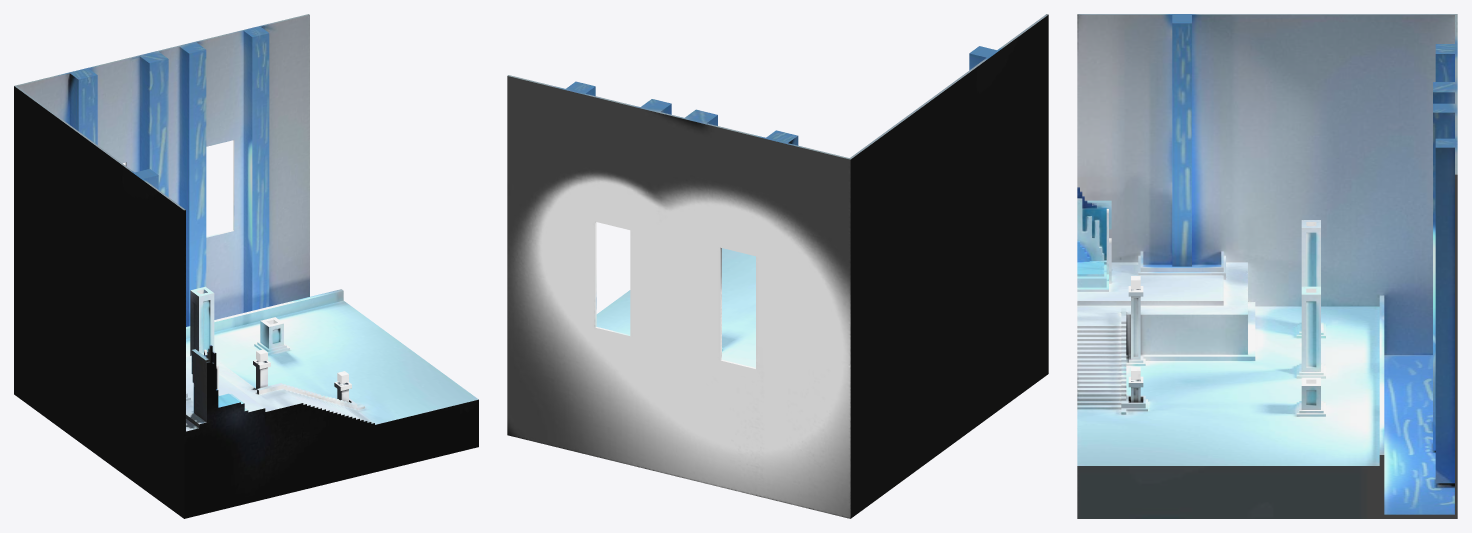
File: throne-right.glb
The picture shows the model from 3 angles, left to right: view 1: azimuth 30°, elevation 25°; view 2: azimuth 150°, elevation 25°; view 3: azimuth 270°, elevation 25°; orthographic projection. The views are drawn at different scales.
Visible parts, largest first — view 1: throne-left; view 2: throne-left; view 3: throne-left.
Part boxes in pixels (bbox=[...]): throne-left: bbox=[14, 14, 478, 518]; throne-left: bbox=[507, 14, 1048, 518]; throne-left: bbox=[1077, 14, 1457, 518].
Size of the model in its own units: 156 by 156 by 156.
1 material, 1 textured.
